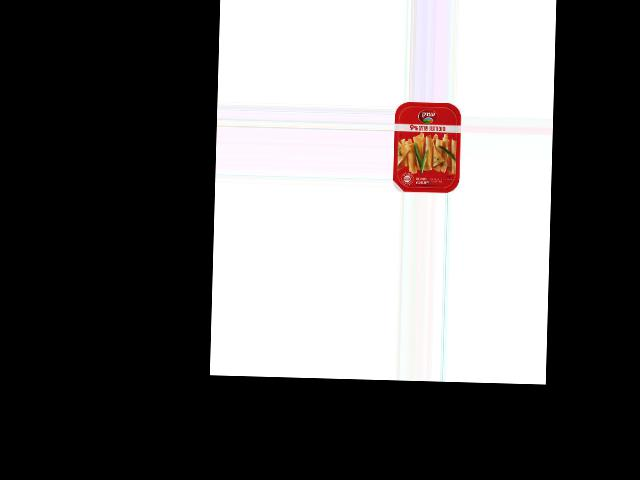cheese: (393, 101, 462, 193)
